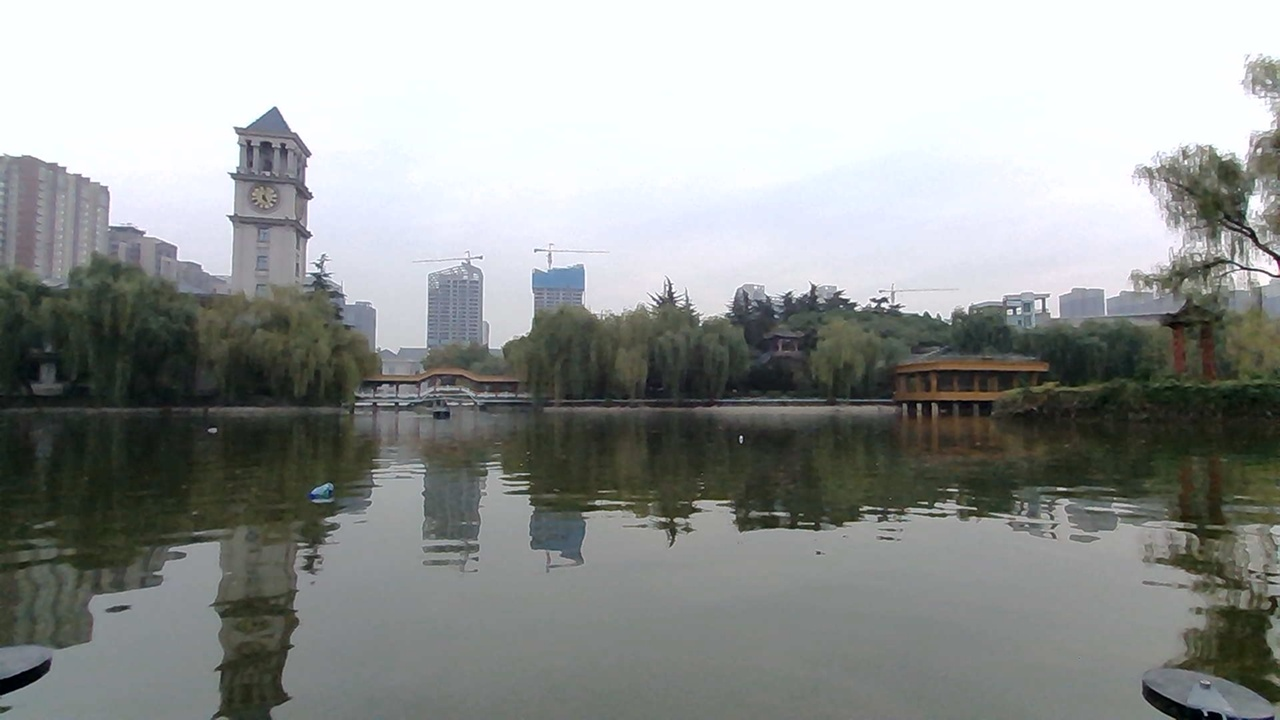bottle: (303, 483, 342, 507), (723, 423, 754, 450), (200, 422, 223, 440)
